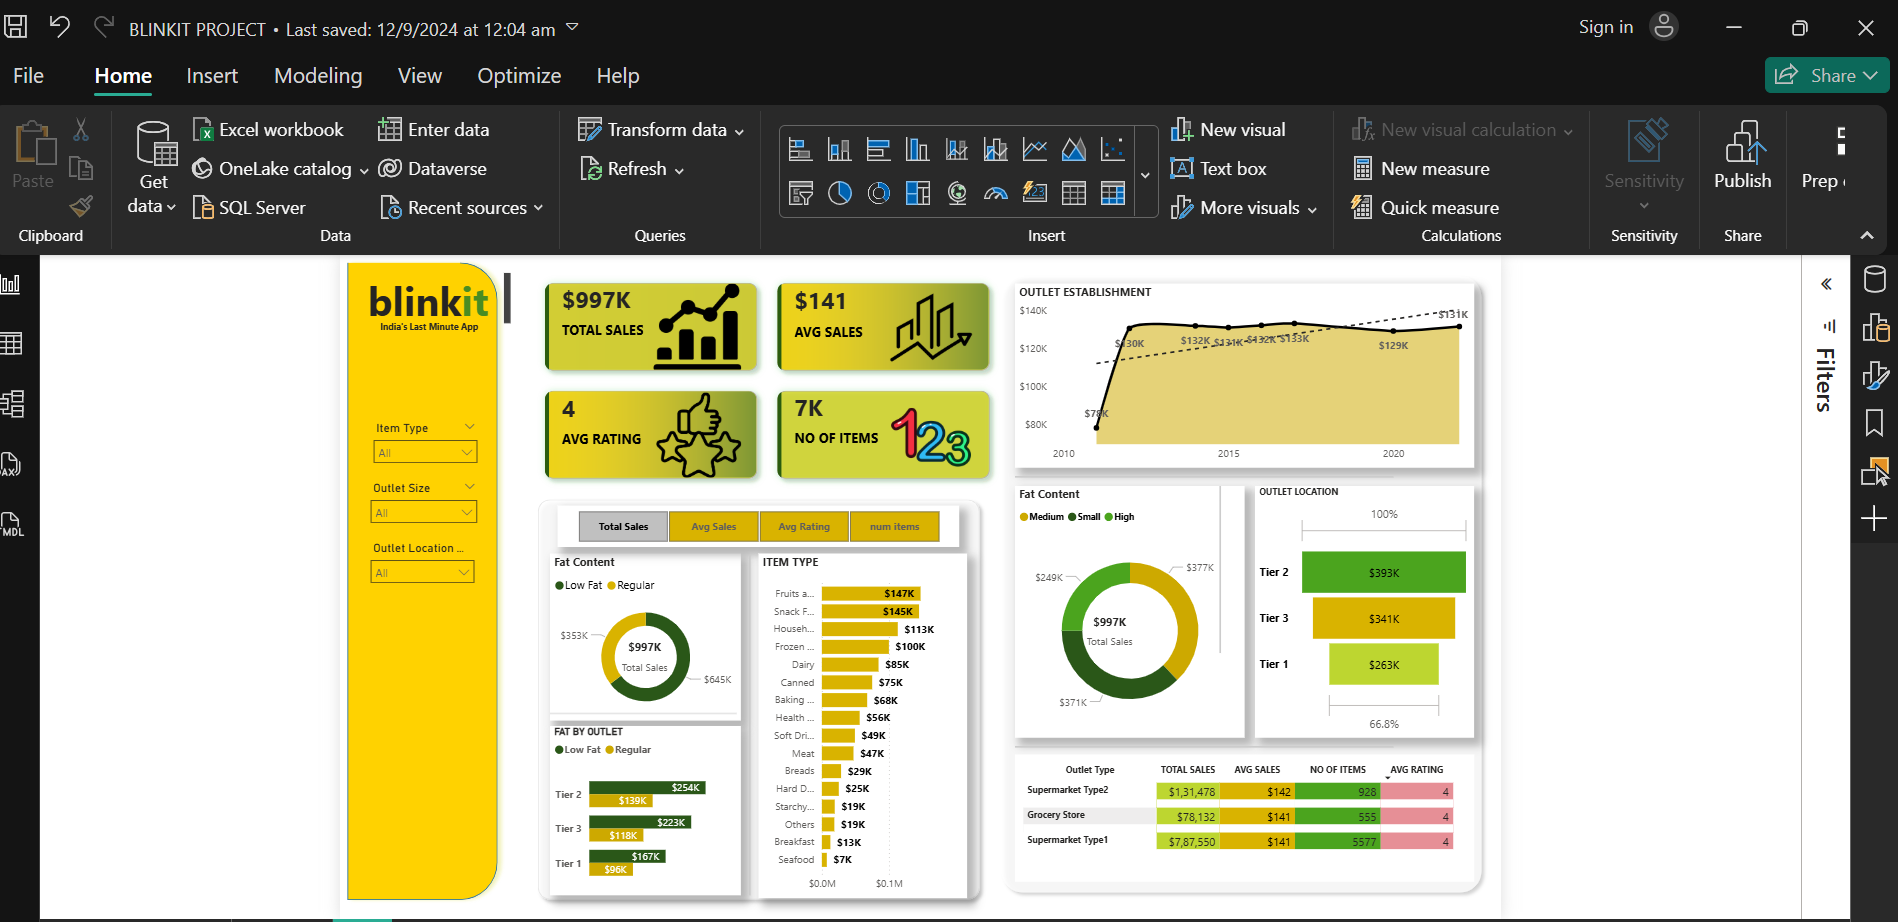

The page's visual inventory and layout, read from the dashboard file:
{"tool":"powerbi","page":{"name":"bilnk","canvas":[1400,800],"ordinal":0},"visuals":[{"type":"shape","box":[0,0,198.8,786.2],"z":0},{"type":"textbox","box":[10.6,15.9,199.7,72.5],"z":1000},{"type":"textbox","box":[44,71,131,35],"z":2000},{"type":"cardVisual","fields":{"Data":["BlinkIT Grocery Data.Total Sales","BlinkIT Grocery Data.Avg Sales","BlinkIT Grocery Data.Avg Rating","BlinkIT Grocery Data.num items"]},"box":[230,16,570,270],"z":3000},{"type":"shape","box":[230,286,550,500],"z":4000},{"type":"donutChart","title":"Fat Content","fields":{"Y":["BlinkIT Grocery Data.Total Sales"],"Category":["BlinkIT Grocery Data.Item Fat Content"]},"box":[252.5,360,230,201.2],"z":5000},{"type":"slicer","fields":{"Values":["Metrics.Metrics"]},"box":[262.5,302.5,483.8,50],"z":6000},{"type":"cardVisual","fields":{"Data":["BlinkIT Grocery Data.Total Sales"]},"box":[317.5,452.5,98.8,63.8],"z":7000},{"type":"clusteredBarChart","title":"FAT BY OUTLET","fields":{"Y":["BlinkIT Grocery Data.Total Sales"],"Category":["BlinkIT Grocery Data.Outlet Location Type"],"Series":["BlinkIT Grocery Data.Item Fat Content"]},"box":[252.5,567.5,230,203.8],"z":8000},{"type":"shape","box":[252.5,536.2,225,31.2],"z":9000},{"type":"shape","box":[482.5,361.2,22.5,410],"z":10000},{"type":"barChart","title":"ITEM TYPE","fields":{"Y":["BlinkIT Grocery Data.Total Sales"],"Category":["BlinkIT Grocery Data.Item Type"]},"box":[505,360,251.2,415],"z":11000},{"type":"shape","box":[788,16.3,596.4,760.9],"z":12000},{"type":"lineChart","title":"OUTLET ESTABLISHMENT","fields":{"Category":["BlinkIT Grocery Data.Outlet Establishment Year"],"Y":["BlinkIT Grocery Data.Total Sales"]},"box":[813.3,34.3,553,222.3],"z":13000},{"type":"shape","box":[812.5,256.2,456.2,21.2],"z":14000},{"type":"donutChart","title":"Fat Content","fields":{"Y":["BlinkIT Grocery Data.Total Sales"],"Category":["BlinkIT Grocery Data.Outlet Size"]},"box":[813.3,278.3,276.5,303.6],"z":15000},{"type":"cardVisual","fields":{"Data":["BlinkIT Grocery Data.Total Sales"]},"box":[877.5,421.2,98.8,63.8],"z":16000},{"type":"shape","box":[1053.8,277.5,13.8,201.2],"z":17000},{"type":"funnel","title":"OUTLET LOCATION","fields":{"Y":["BlinkIT Grocery Data.Total Sales"],"Category":["BlinkIT Grocery Data.Outlet Location Type"]},"box":[1102.4,278.3,263.9,303.6],"z":18000},{"type":"shape","box":[812.5,581.2,456.2,21.2],"z":19000},{"type":"pivotTable","fields":{"Rows":["BlinkIT Grocery Data.Outlet Type"],"Values":["BlinkIT Grocery Data.Total Sales","BlinkIT Grocery Data.Avg Sales","BlinkIT Grocery Data.num items","BlinkIT Grocery Data.Avg Rating"]},"box":[813.3,601.8,553,153.6],"z":20000},{"type":"slicer","fields":{"Values":["BlinkIT Grocery Data.Item Type"]},"box":[30.7,195.2,144.6,61.4],"z":20001},{"type":"slicer","fields":{"Values":["BlinkIT Grocery Data.Outlet Location Type"]},"box":[27.1,339.8,144.6,81.3],"z":20002},{"type":"slicer","fields":{"Values":["BlinkIT Grocery Data.Outlet Size"]},"box":[27.1,267.5,148.2,59.6],"z":20003}]}

Visuals, with their boxes on the page's 1400x800 design canvas (x1, y1, x2, y2). These are canvas units, not pixel positions in the 1898x922 screenshot, which may show the page scaled, cropped or inside an application window:
shape: box=[0, 0, 199, 786]
textbox: box=[11, 16, 210, 88]
textbox: box=[44, 71, 175, 106]
cardVisual - BlinkIT Grocery Data.Total Sales x BlinkIT Grocery Data.Avg Sales: box=[230, 16, 800, 286]
shape: box=[230, 286, 780, 786]
"Fat Content" donutChart: box=[252, 360, 482, 561]
slicer - Metrics.Metrics: box=[262, 302, 746, 352]
cardVisual - BlinkIT Grocery Data.Total Sales: box=[318, 452, 416, 516]
"FAT BY OUTLET" clusteredBarChart: box=[252, 568, 482, 771]
shape: box=[252, 536, 478, 567]
shape: box=[482, 361, 505, 771]
"ITEM TYPE" barChart: box=[505, 360, 756, 775]
shape: box=[788, 16, 1384, 777]
"OUTLET ESTABLISHMENT" lineChart: box=[813, 34, 1366, 257]
shape: box=[812, 256, 1269, 277]
"Fat Content" donutChart: box=[813, 278, 1090, 582]
cardVisual - BlinkIT Grocery Data.Total Sales: box=[878, 421, 976, 485]
shape: box=[1054, 278, 1068, 479]
"OUTLET LOCATION" funnel: box=[1102, 278, 1366, 582]
shape: box=[812, 581, 1269, 602]
pivotTable - BlinkIT Grocery Data.Outlet Type x BlinkIT Grocery Data.Total Sales: box=[813, 602, 1366, 755]
slicer - BlinkIT Grocery Data.Item Type: box=[31, 195, 175, 257]
slicer - BlinkIT Grocery Data.Outlet Location Type: box=[27, 340, 172, 421]
slicer - BlinkIT Grocery Data.Outlet Size: box=[27, 268, 175, 327]
